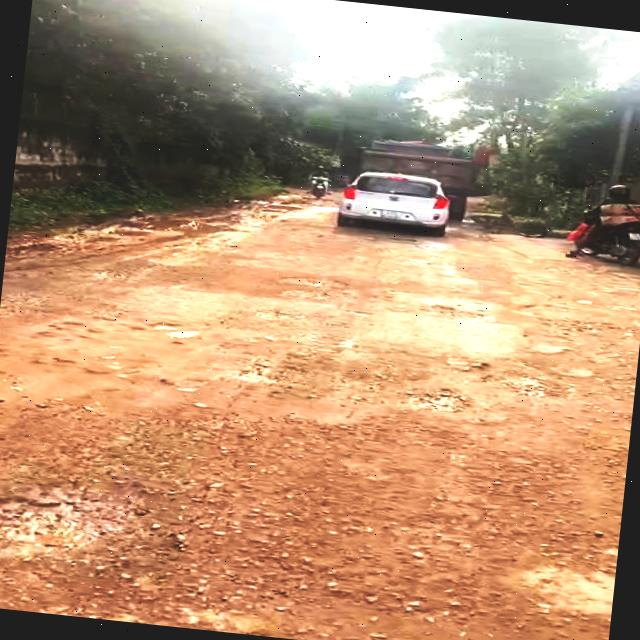pothole: (0, 456, 167, 593), (398, 388, 479, 418), (504, 370, 561, 400), (278, 270, 350, 292)
